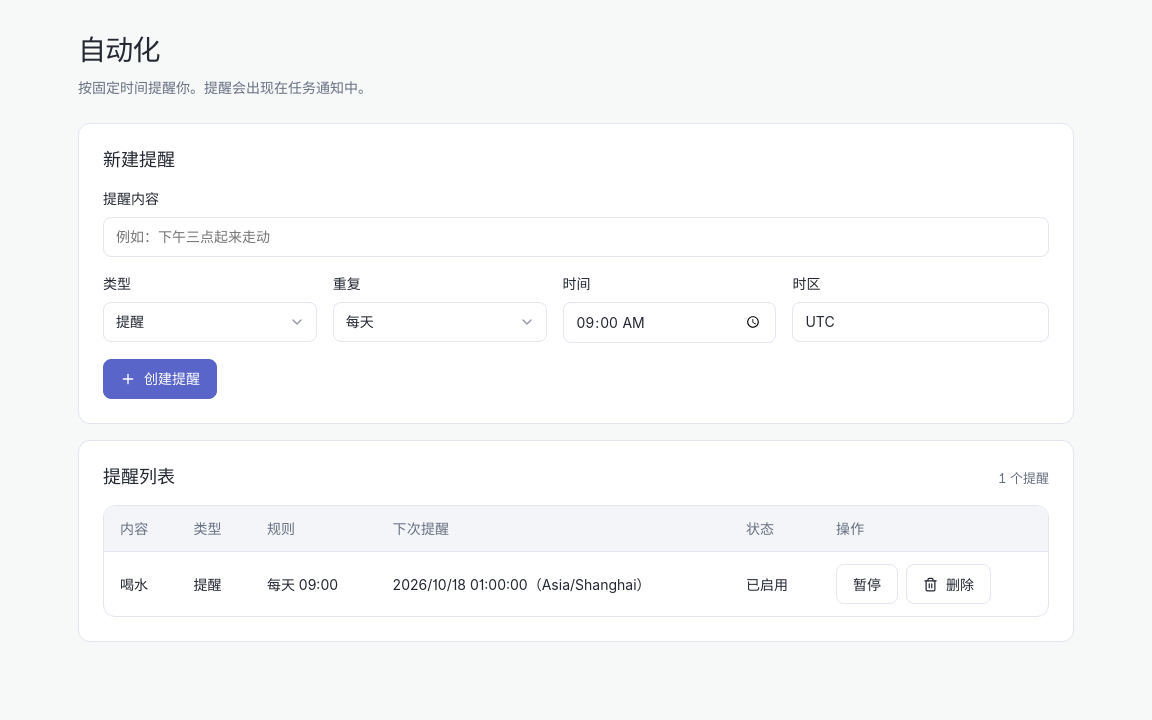
Test: AutomationsPage › pauses a reminder and updates its status
Expected: the text "喝水" is shown, [104,552,178,616]
Click the button "暂停". click: (867, 584)
box: [836,564,898,604]
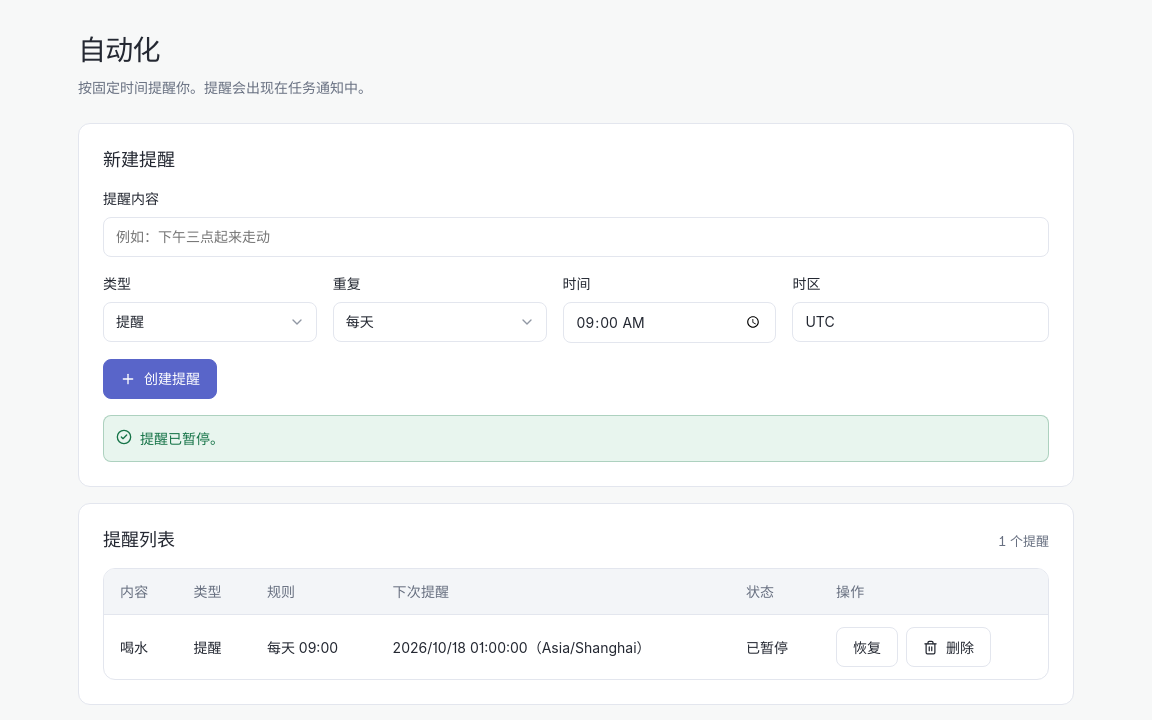
Expected: the text "已暂停" is shown, [730,615,820,679]
